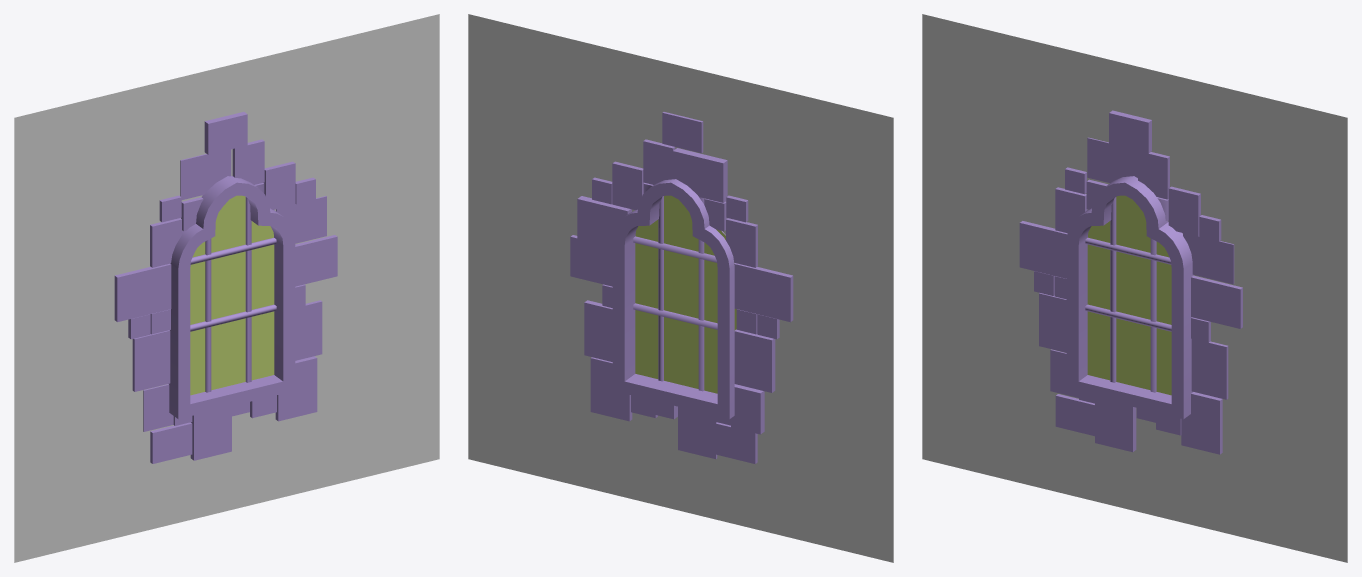
The model's file is window_b_outside_variant_a.fbx.
3 views of the same model, side by side, from view 1: azimuth 30°, elevation 25°; view 2: azimuth 150°, elevation 25°; view 3: azimuth 330°, elevation 25° (orthographic).
Parts seen in each view (by area): view 1: variant_a; view 2: variant_a; view 3: variant_a.
Boxes of the visible parts, x1,y1,x2,y2 form: variant_a: [14, 14, 439, 562]; variant_a: [468, 14, 893, 562]; variant_a: [922, 14, 1347, 562].
Bounding box in the file's own units: 5 × 5 × 0.4.
